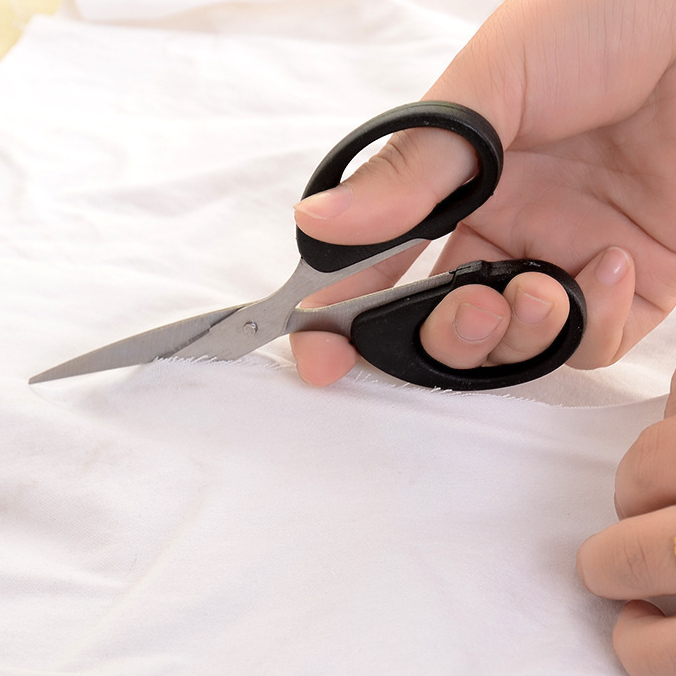scissors: (25, 99, 592, 394)
